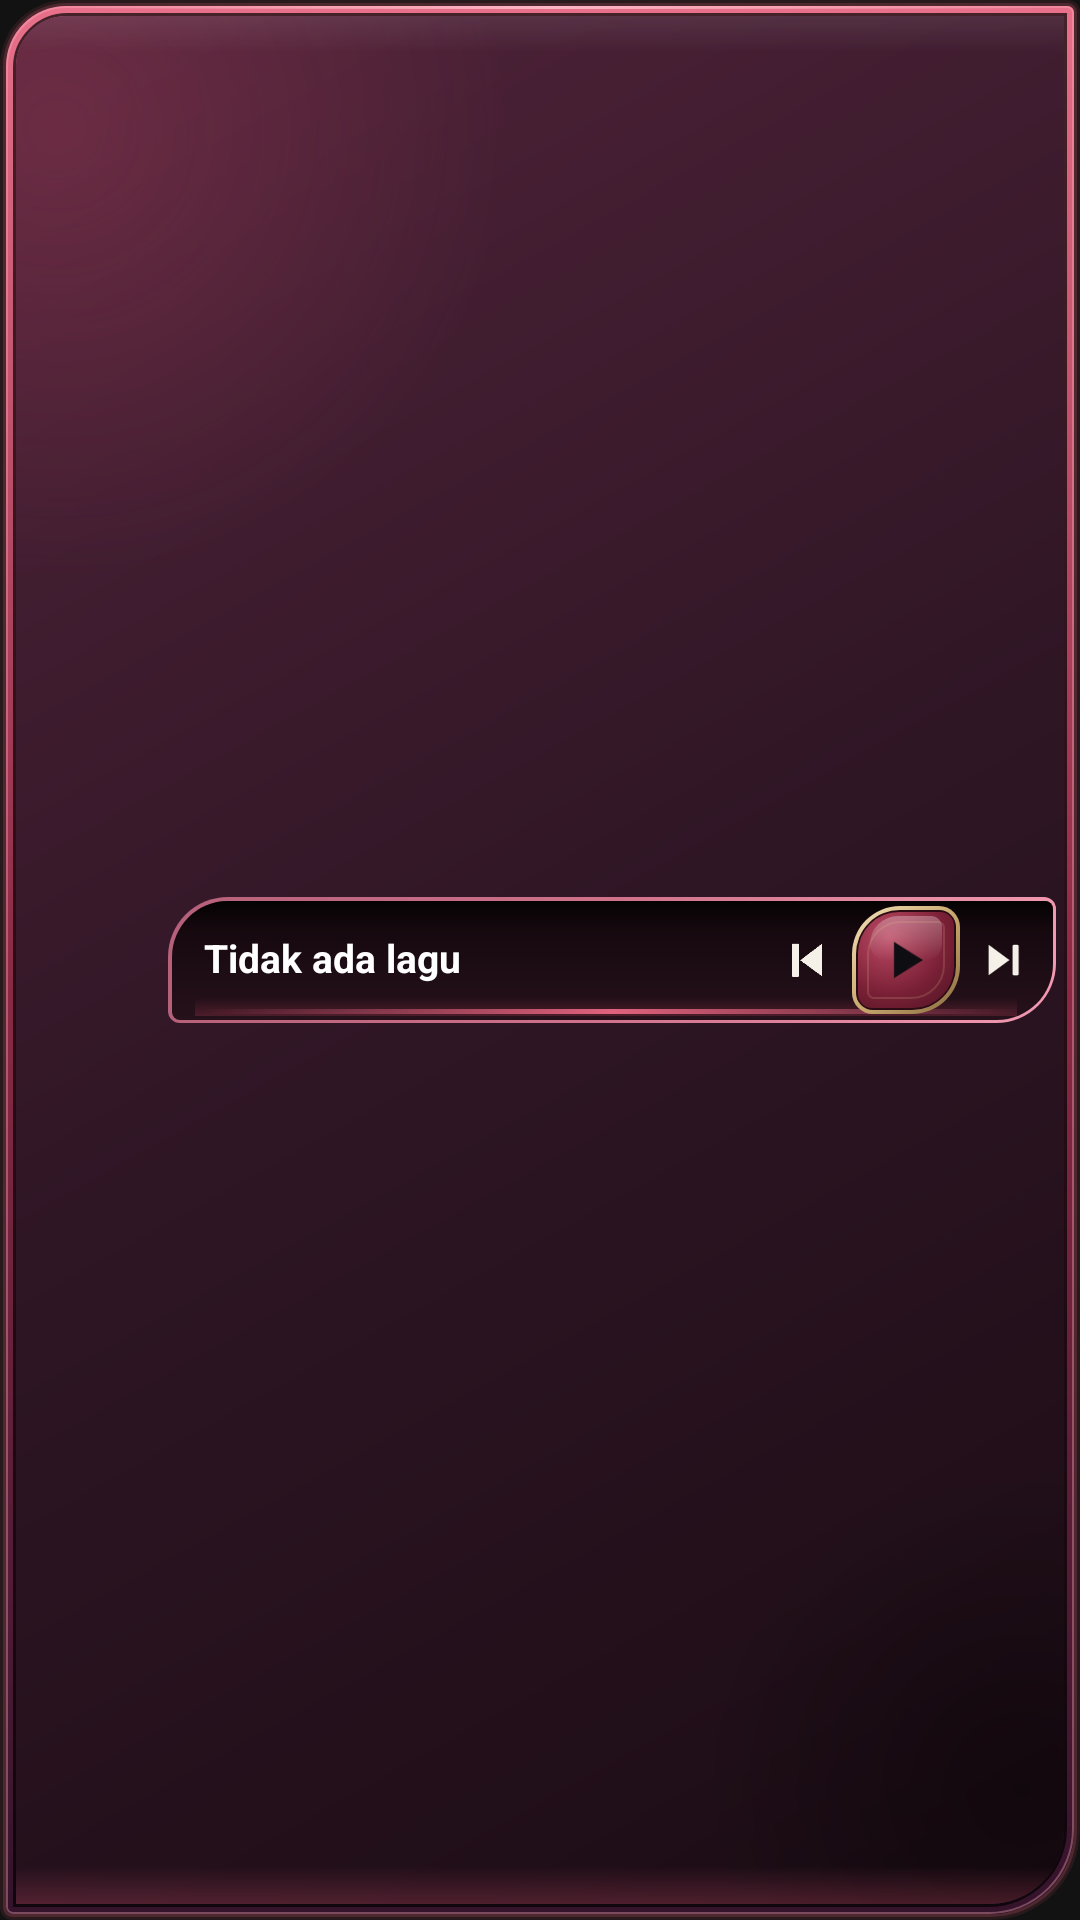

Icons on this 1080px x 1920px Android screen, each with the point to tap as (x=x, y=y):
Berikutnya: (x=1003, y=960)
Putar: (x=906, y=960)
Sebelumnya: (x=807, y=960)
